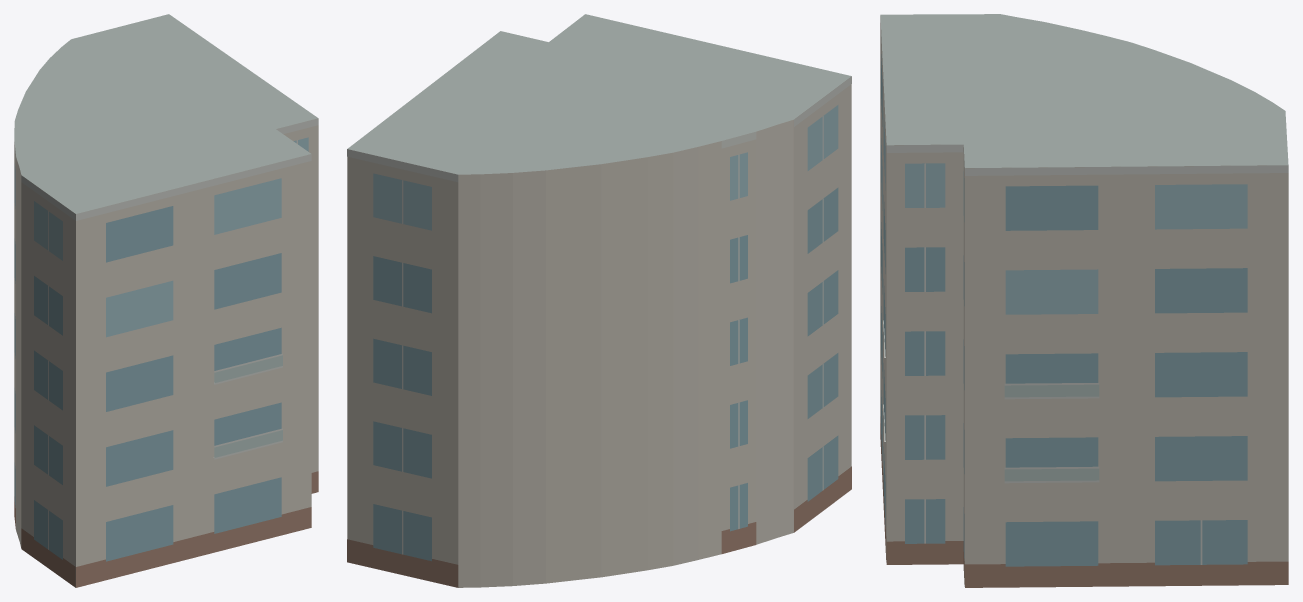
The model's file is survey-upis-32699421.glb.
3 views of the same model, side by side, from view 1: azimuth 30°, elevation 25°; view 2: azimuth 150°, elevation 25°; view 3: azimuth 270°, elevation 25° (orthographic). The views are drawn at different scales.
Parts seen in each view (by area): view 1: survey-upis-32699421.tmp; view 2: survey-upis-32699421.tmp; view 3: survey-upis-32699421.tmp.
Part boxes in pixels (<box>): survey-upis-32699421.tmp: <box>14,14,318,587</box>; survey-upis-32699421.tmp: <box>347,14,851,587</box>; survey-upis-32699421.tmp: <box>880,14,1288,587</box>.
Bounding box in the file's own units: 10.33 × 13.1 × 11.55.
